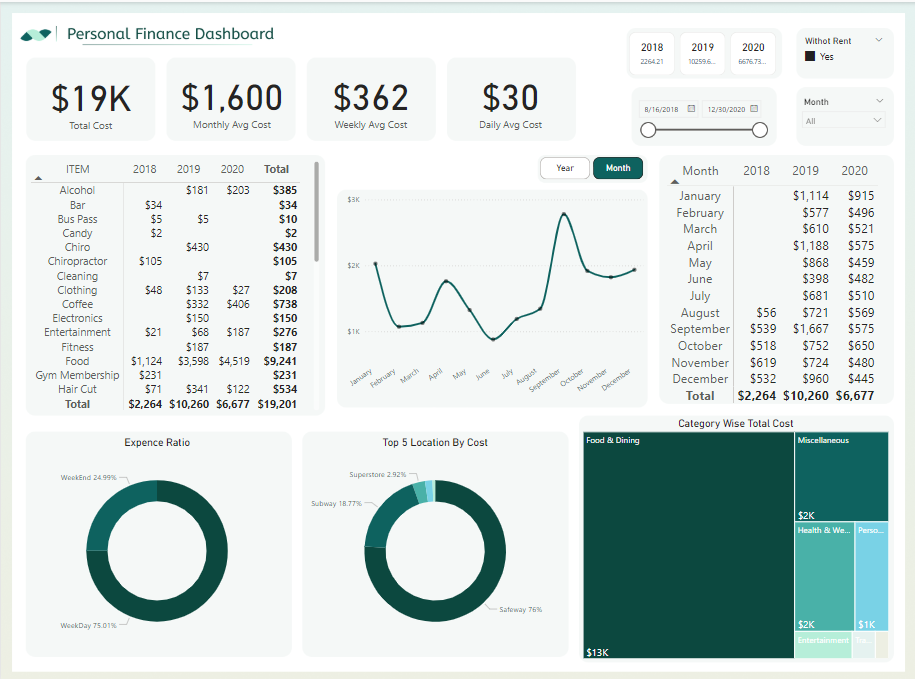

What the dashboard file says about the page in this screenshot:
{"tool":"powerbi","page":{"name":"Dashboard","canvas":[1480,1105],"ordinal":0},"visuals":[{"type":"donutChart","title":"Top 5 Location By Cost","fields":{"Y":["CountNonNull(df.COST)"],"Category":["df.LOCATION"]},"box":[493.6,702.9,418.6,353.6],"z":0},{"type":"card","fields":{"Values":["Sum(df.COST)"]},"box":[39.5,95,213,126],"z":1000},{"type":"donutChart","title":"Expence Ratio","fields":{"Category":["df.IsWeekEnd"],"Y":["Sum(df.COST)"]},"box":[44.2,702.5,418.3,353.3],"z":2000},{"type":"lineChart","fields":{"Category":["df.DATE.Variation.Date Hierarchy.Month"],"Y":["Sum(df.COST)"]},"box":[544.3,307,502.2,349.1],"z":3000},{"type":"advancedSlicerVisual","fields":{"Values":["Parameter.Parameter"]},"box":[868.3,245.8,178.3,46.7],"z":4000},{"type":"treemap","title":"Category Wise Total Cost","fields":{"Group":["Expence Category.Category"],"Values":["Sum(df.COST)"]},"box":[938.6,672.9,505,396.4],"z":5000},{"type":"slicer","fields":{"Values":["df.Withot Rent"]},"box":[1289.1,50,151.8,66.4],"z":6000},{"type":"pivotTable","fields":{"Rows":["df.DATE.Variation.Date Hierarchy.Month"],"Columns":["df.Year"],"Values":["Sum(df.COST)"]},"box":[1075,253,373,403],"z":7000},{"type":"pivotTable","fields":{"Rows":["df.ITEM"],"Columns":["df.DATE.Variation.Date Hierarchy.Year"],"Values":["Sum(df.COST)"]},"box":[44,253.3,477.3,414],"z":8000},{"type":"card","fields":{"Values":["df.Monthly Avg"]},"box":[496,88.7,206.7,136.7],"z":9000},{"type":"advancedSlicerVisual","fields":{"Values":["df.DATE.Variation.Date Hierarchy.Year"]},"box":[1013.3,44,248,80],"z":10000},{"type":"card","fields":{"Values":["df.Measure"]},"box":[720,89,212,137],"z":11000},{"type":"card","fields":{"Values":["df.Monthly Avg Cost"]},"box":[268.7,90.7,210,134.7],"z":12000},{"type":"slicer","fields":{"Values":["df.DATE"]},"box":[1021.1,138.9,230.6,91.7],"z":13000},{"type":"slicer","fields":{"Values":["df.DATE.Variation.Date Hierarchy.Month"]},"box":[1288.3,148.9,155,72.2],"z":14000}]}

Visuals, with their boxes in screenshot pixels (x1, y1, x2, y2), scaled from the page's 1480x1105 canvas onto the 915x679 screenshot:
"Top 5 Location By Cost" donutChart: region(305, 432, 564, 649)
card - Sum(df.COST): region(24, 58, 156, 136)
"Expence Ratio" donutChart: region(27, 432, 286, 649)
lineChart - df.DATE.Variation.Date Hierarchy.Month x Sum(df.COST): region(337, 189, 647, 403)
advancedSlicerVisual - Parameter.Parameter: region(537, 151, 647, 180)
"Category Wise Total Cost" treemap: region(580, 413, 892, 657)
slicer - df.Withot Rent: region(797, 31, 891, 72)
pivotTable - df.DATE.Variation.Date Hierarchy.Month x df.Year: region(665, 155, 895, 403)
pivotTable - df.ITEM x df.DATE.Variation.Date Hierarchy.Year: region(27, 156, 322, 410)
card - df.Monthly Avg: region(307, 55, 434, 139)
advancedSlicerVisual - df.DATE.Variation.Date Hierarchy.Year: region(626, 27, 780, 76)
card - df.Measure: region(445, 55, 576, 139)
card - df.Monthly Avg Cost: region(166, 56, 296, 139)
slicer - df.DATE: region(631, 85, 774, 142)
slicer - df.DATE.Variation.Date Hierarchy.Month: region(796, 91, 892, 136)
